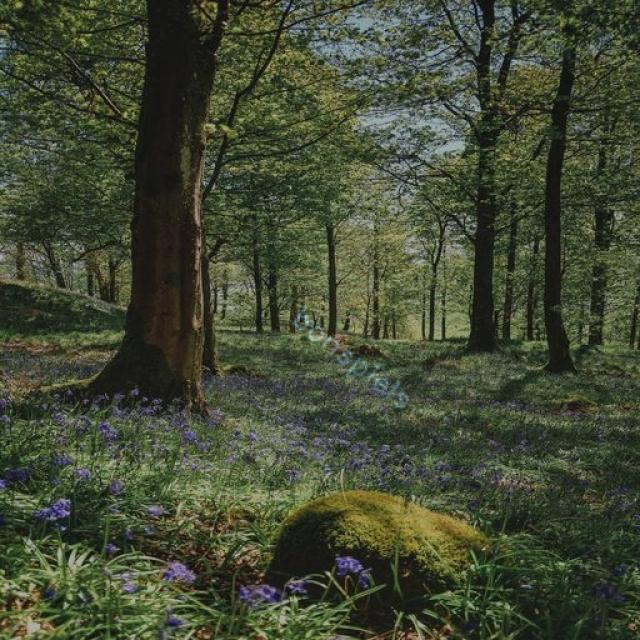watermark: (281, 299, 424, 416)
